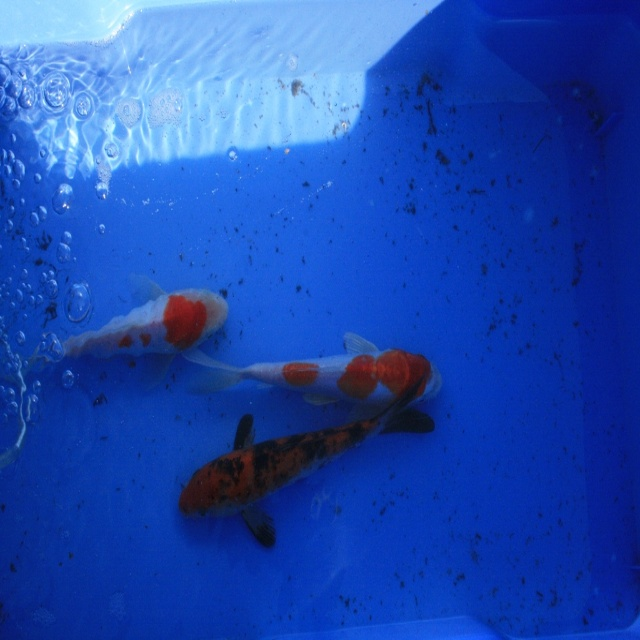Fish: (180, 376, 429, 554), (180, 328, 444, 413), (48, 282, 232, 363)
